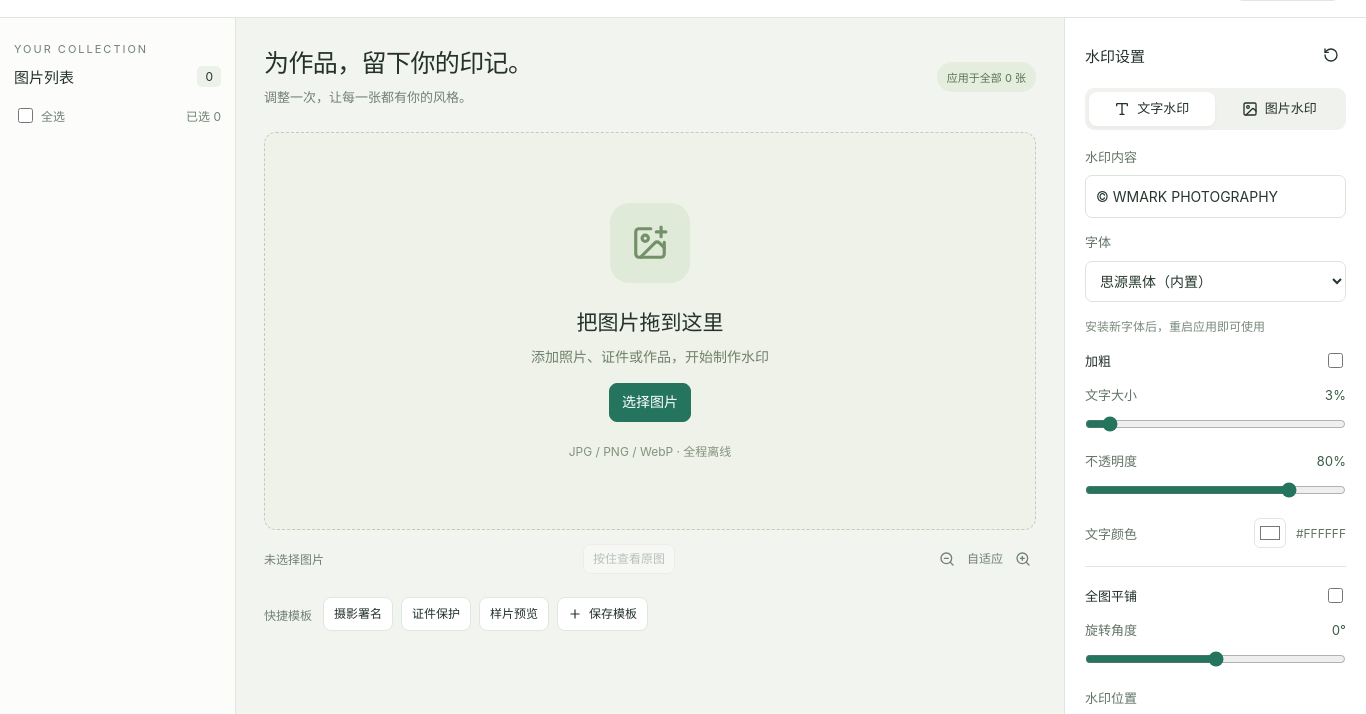
Scenario: R07 export errors are visible and allow recovery
Click the button "选择图片" at (650, 402), box [609,383,691,422]
(page scrolled)
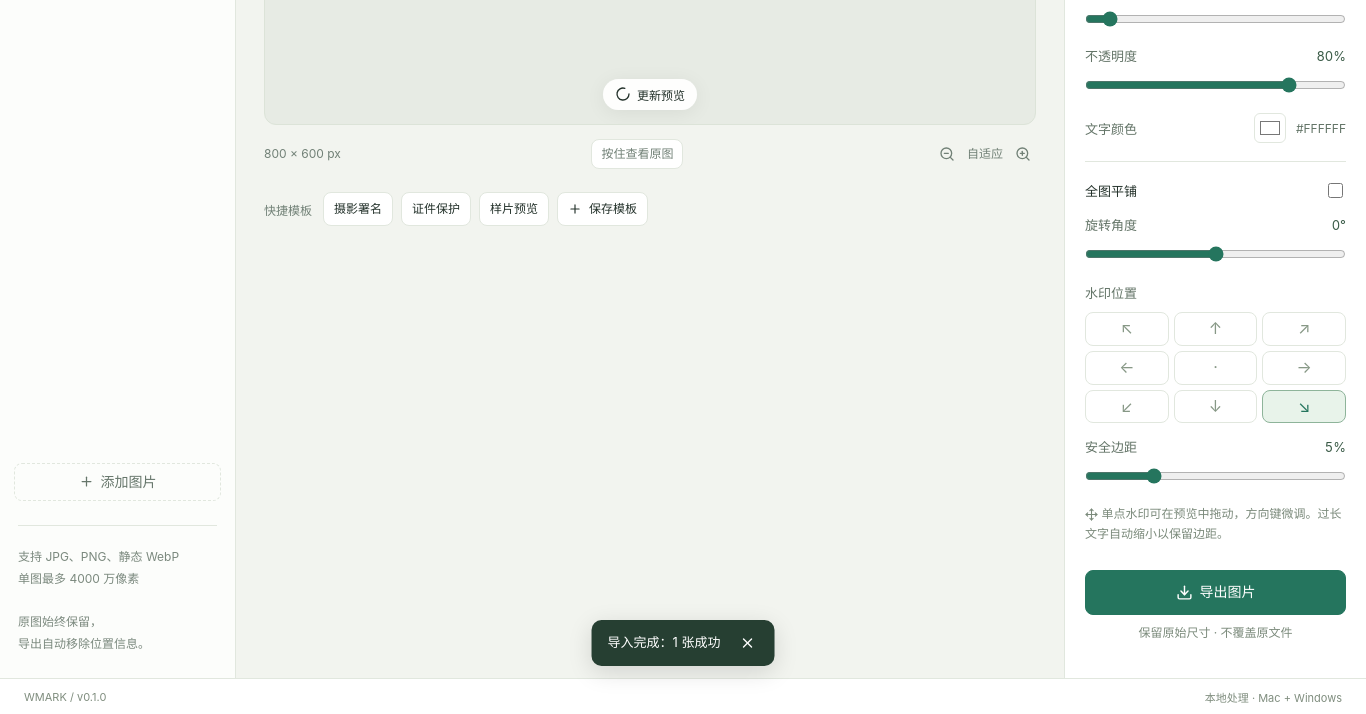
Now the text "800 × 600 px" is shown, box [264,146,341,161]
Click the button "导出图片" at (1216, 592), box [1085,570,1346,615]
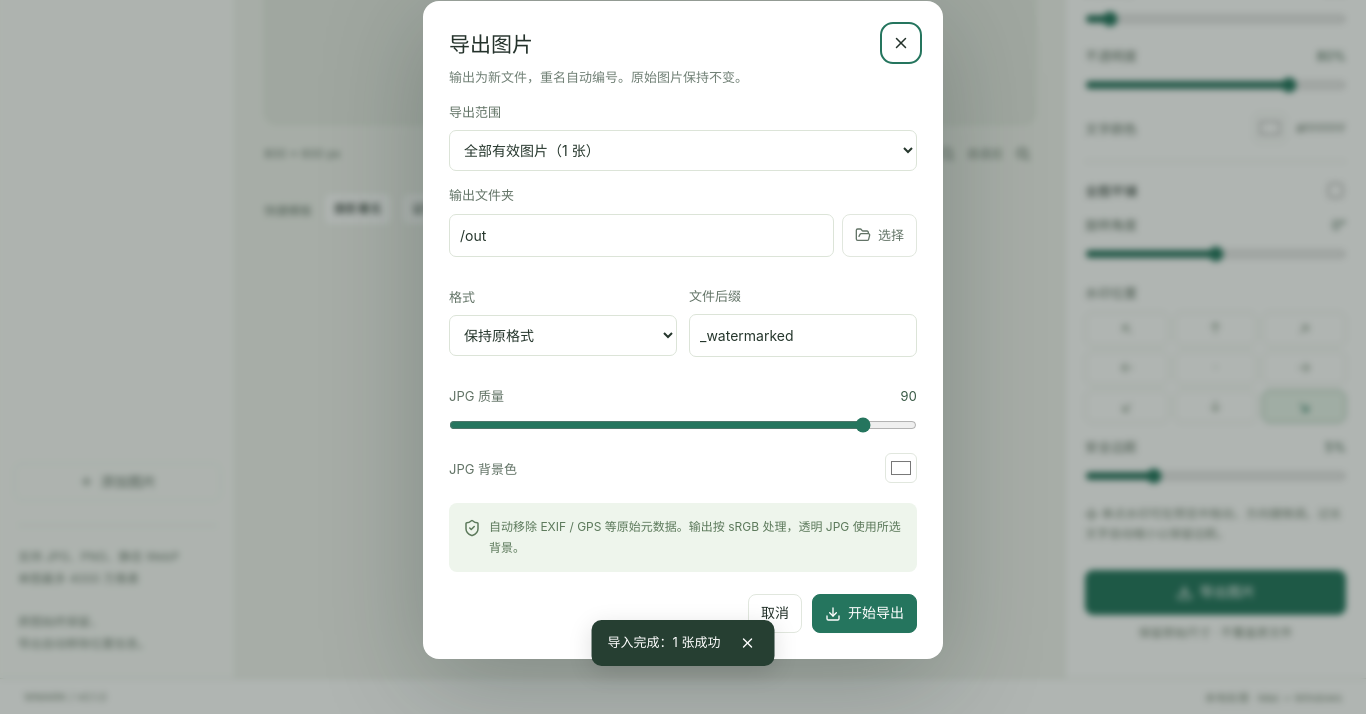
Now the button "开始导出" is enabled
Click the button "开始导出" at (864, 614), box [812,594,917,633]
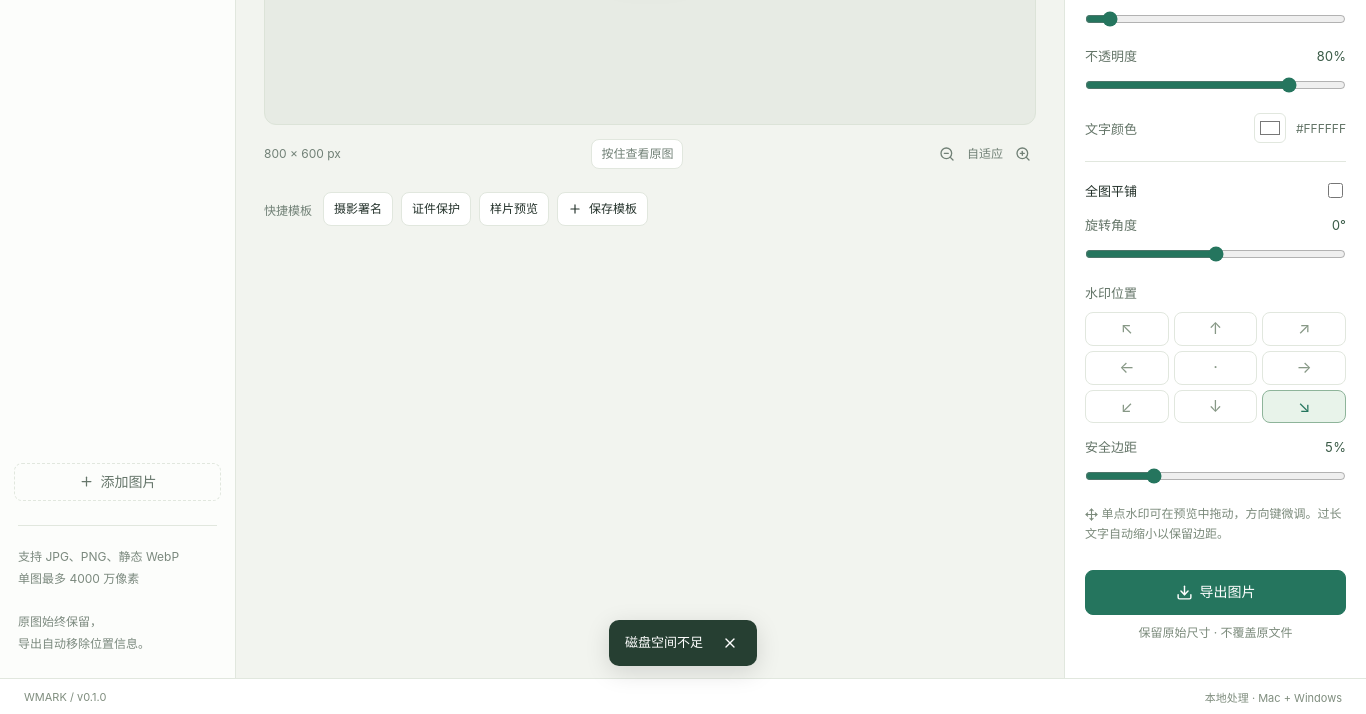
Now the button "导出图片" is enabled, box [1085,570,1346,615]
Now the text "磁盘空间不足" is shown, box [625,633,703,653]
